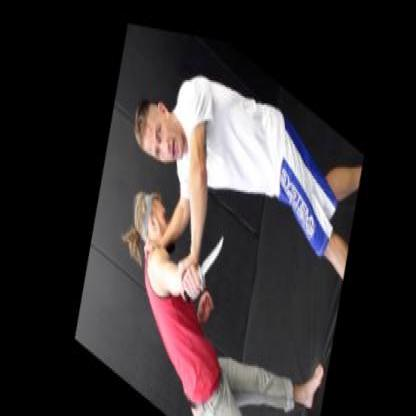knife: (170, 196, 228, 321)
